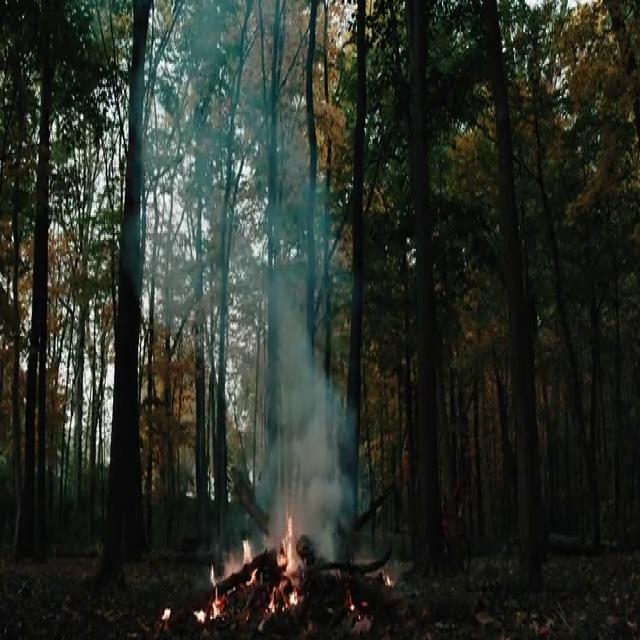smoke: (256, 280, 365, 516)
